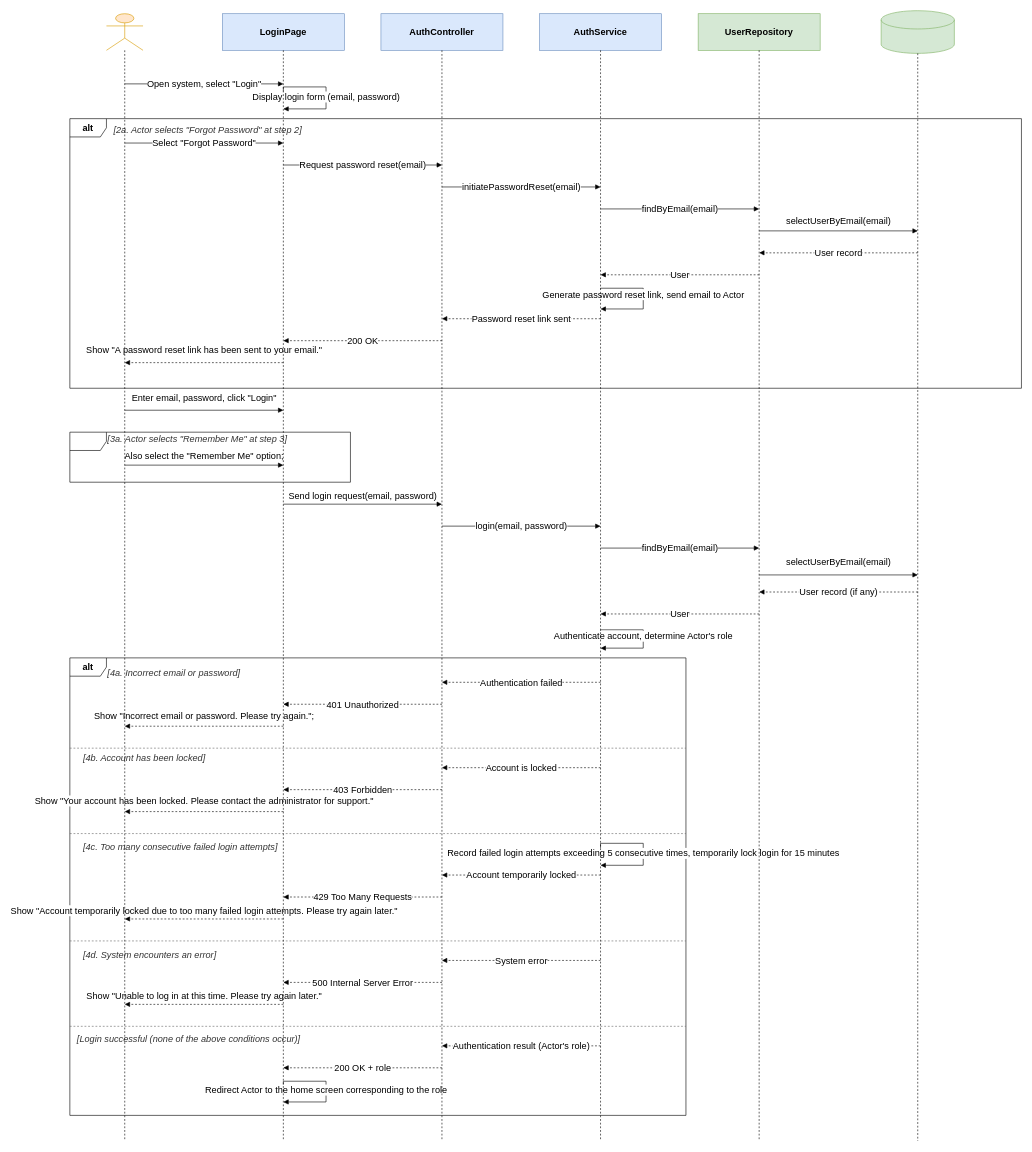
Image size: 1032x1152. Some labels were removed from this diagram. Here are the shapes that lost their labels. From the top down, the box of each, then its label:
(106, 13, 143, 50): Actor (Teacher / Admin)
(881, 10, 954, 53): PostgreSQL
(69, 432, 350, 482): opt
